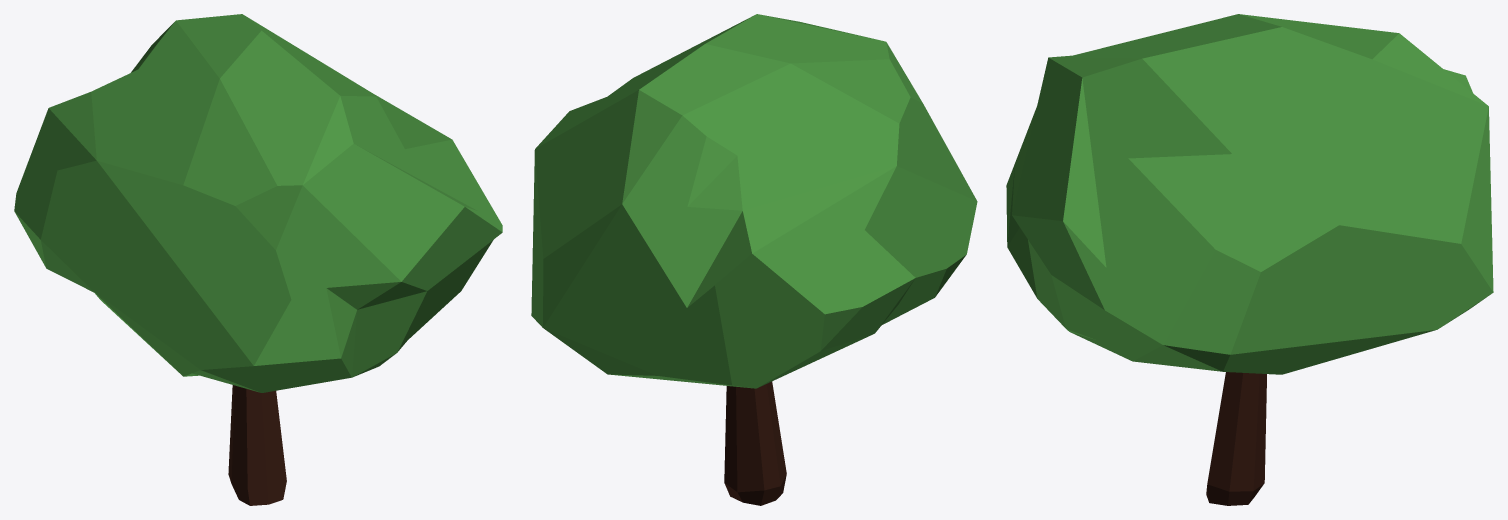
The model's file is tree.fbx.
The picture shows the model from 3 angles, left to right: view 1: azimuth 30°, elevation 25°; view 2: azimuth 150°, elevation 25°; view 3: azimuth 270°, elevation 25°; orthographic projection. The views are drawn at different scales.
Parts seen in each view (by area): view 1: tree3 v:90 f:69; view 2: tree3 v:90 f:69; view 3: tree3 v:90 f:69.
Part boxes in pixels (x1,y1,x2,y2): tree3 v:90 f:69: [14, 14, 502, 505]; tree3 v:90 f:69: [531, 14, 977, 505]; tree3 v:90 f:69: [1006, 14, 1493, 505].
Bounding box in the file's own units: 957 × 1016 × 930.
